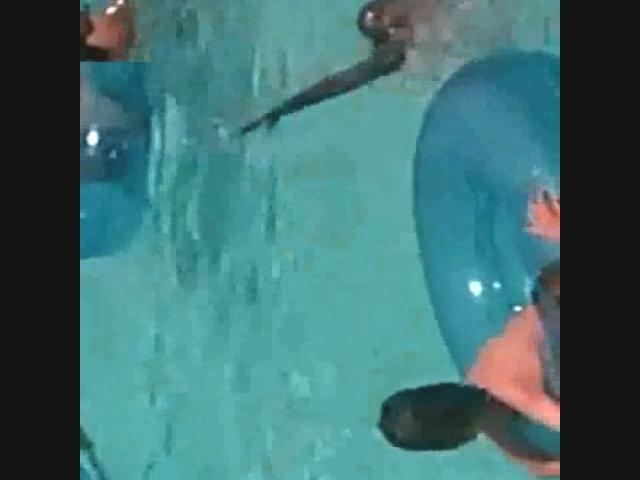drowning: (209, 0, 523, 130)
swimming: (364, 235, 559, 480), (80, 0, 156, 61)
